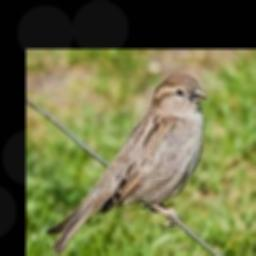Sparrow: (47, 74, 208, 253)
